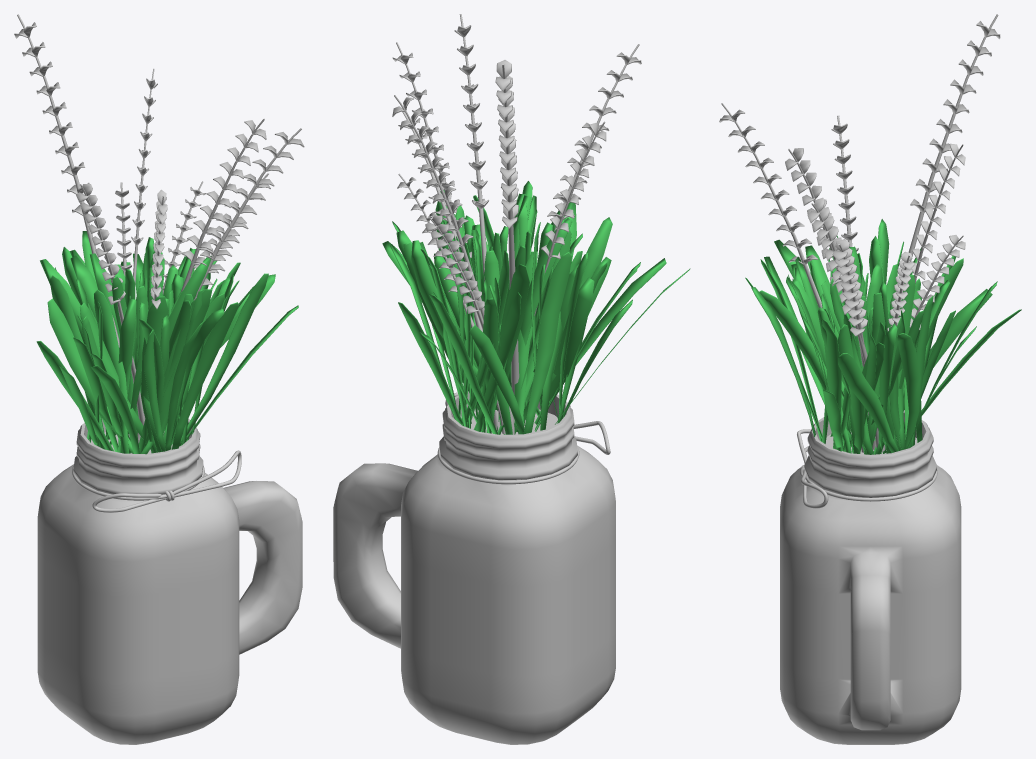
Rendered from Cup_pot.fbx.
3 renders of one model, left to right at view 1: azimuth 30°, elevation 25°; view 2: azimuth 150°, elevation 25°; view 3: azimuth 270°, elevation 25°, orthographic. The views are drawn at different scales.
Parts seen in each view (by area): view 1: Cup_pot, Cup_leaves; view 2: Cup_pot, Cup_leaves; view 3: Cup_pot, Cup_leaves.
Part boxes in pixels (x1,y1,x2,y2): Cup_pot: [14, 14, 304, 744]; Cup_leaves: [36, 231, 298, 454]; Cup_pot: [333, 14, 641, 744]; Cup_leaves: [382, 181, 690, 434]; Cup_pot: [719, 14, 1000, 744]; Cup_leaves: [745, 219, 1021, 454].
Size of the model in its own units: 16.38 by 37.15 by 15.03.
